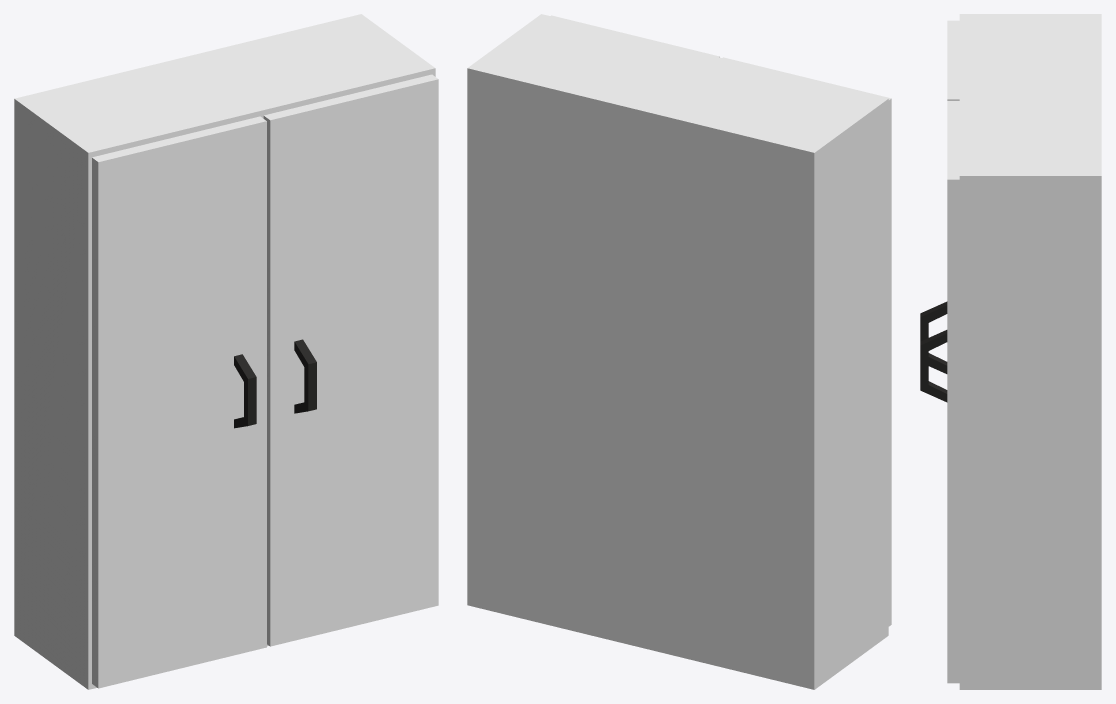
The model's file is WardRobe_1A.fbx.
The picture shows the model from 3 angles, left to right: view 1: azimuth 30°, elevation 25°; view 2: azimuth 150°, elevation 25°; view 3: azimuth 270°, elevation 25°; orthographic projection. The views are drawn at different scales.
Visible parts, largest first — view 1: polySurface1506; view 2: polySurface1506; view 3: polySurface1506.
Part boxes in pixels (left/top/right/bottom): polySurface1506: left=14, top=14, right=438, bottom=689; polySurface1506: left=467, top=14, right=891, bottom=689; polySurface1506: left=920, top=14, right=1101, bottom=689.
Bounding box in the file's own units: 2.3 × 3.4 × 1.09.
Materials: 1 (1 with a texture image).
